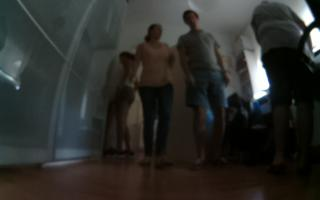person: (247, 1, 318, 182), (174, 5, 233, 172), (130, 22, 180, 169), (102, 46, 140, 164)
